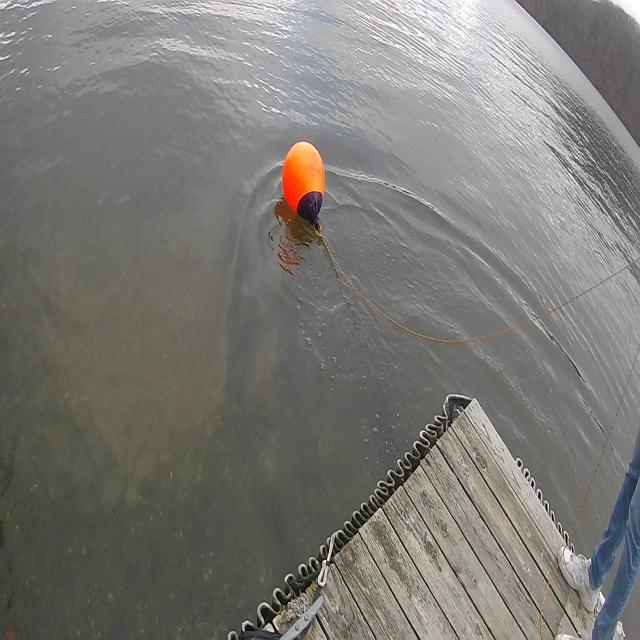Buoy: (280, 133, 327, 236)
